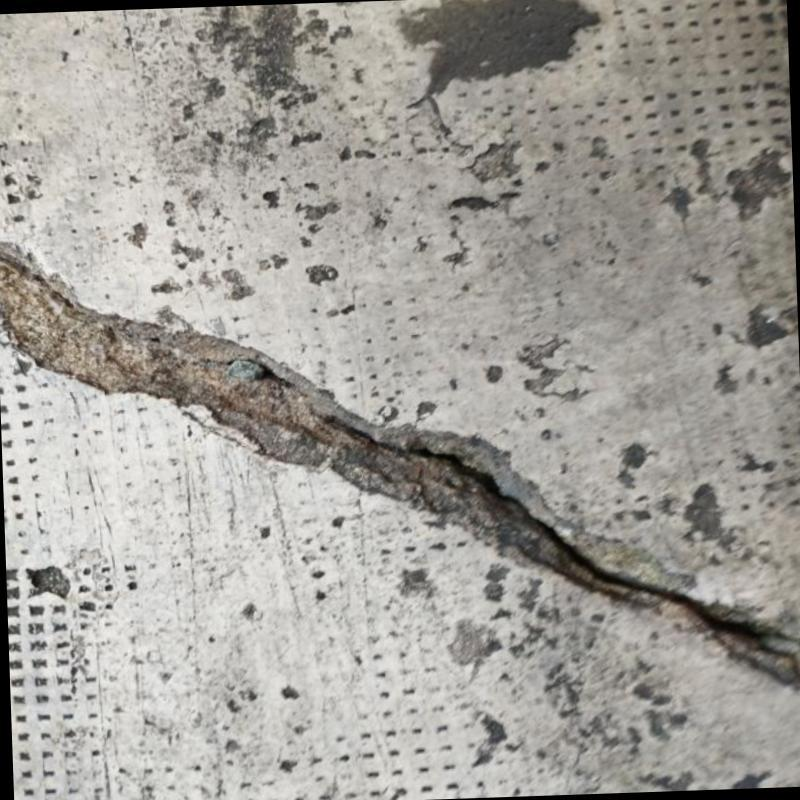pothole: (0, 238, 800, 679)
